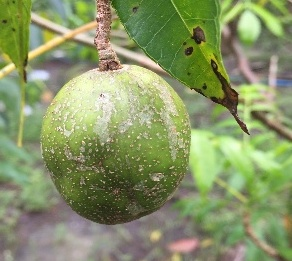Coc: (41, 64, 192, 227)
